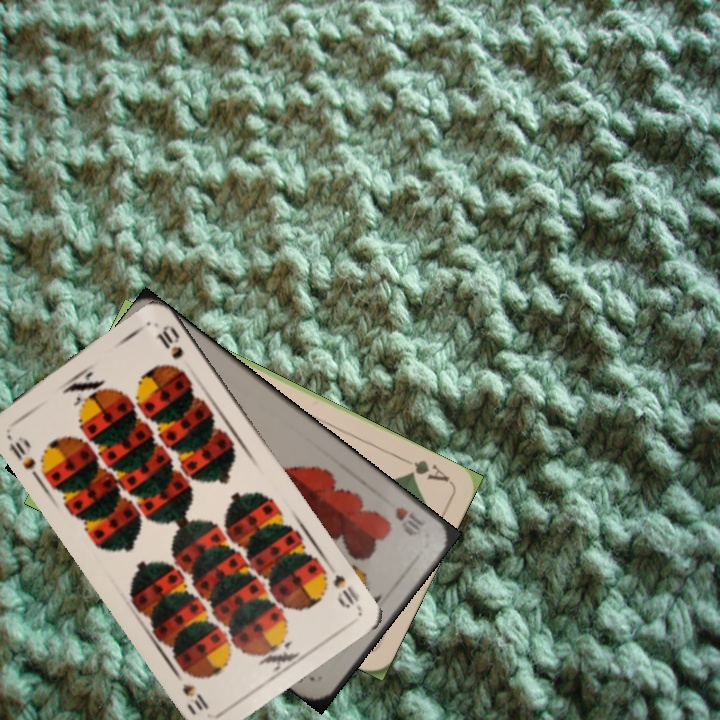GA: (397, 453, 453, 485)
H10: (390, 502, 429, 539)
S10: (2, 430, 38, 473), (329, 570, 362, 611)
